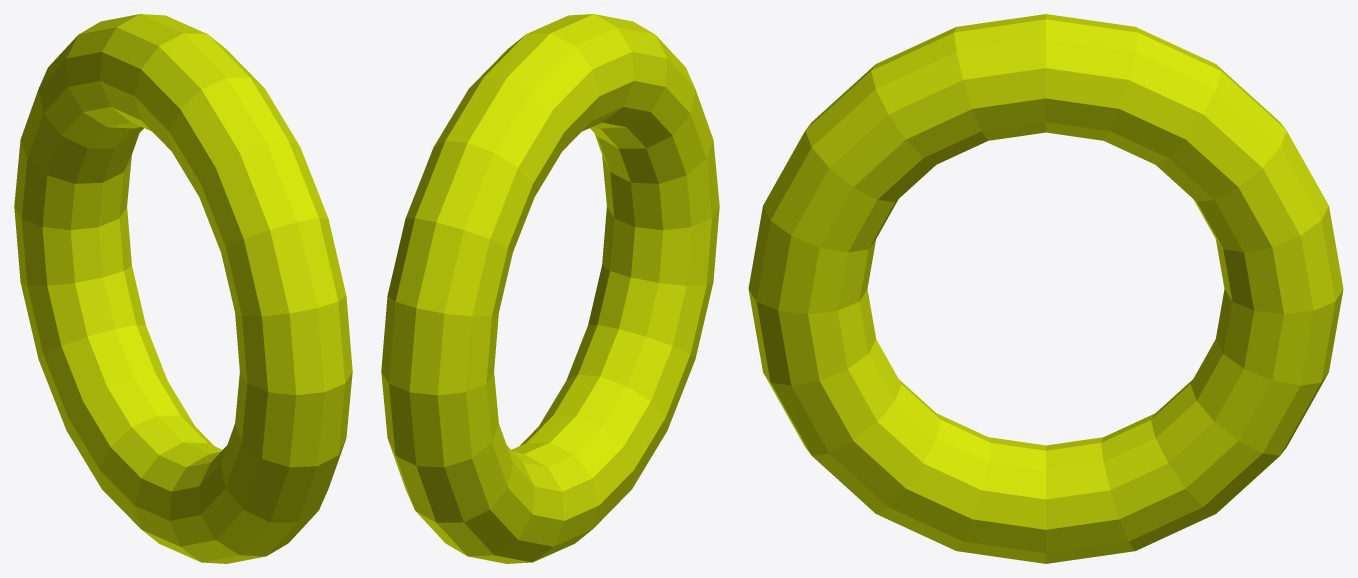
Rendered from ring.glb.
3 views of the same model, side by side, from view 1: azimuth 30°, elevation 25°; view 2: azimuth 150°, elevation 25°; view 3: azimuth 270°, elevation 25° (orthographic). The views are drawn at different scales.
Visible parts, largest first — view 1: Torus; view 2: Torus; view 3: Torus.
Part boxes in pixels (bbox=[...]): Torus: bbox=[14, 14, 352, 563]; Torus: bbox=[381, 14, 719, 563]; Torus: bbox=[748, 14, 1343, 563].
Bounding box in the file's own units: 1 × 5 × 5.
